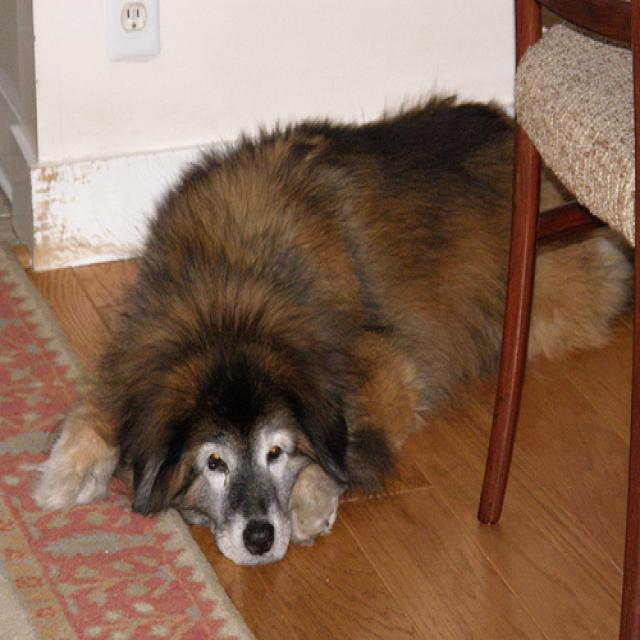dog-leonberger: (29, 82, 522, 575)
